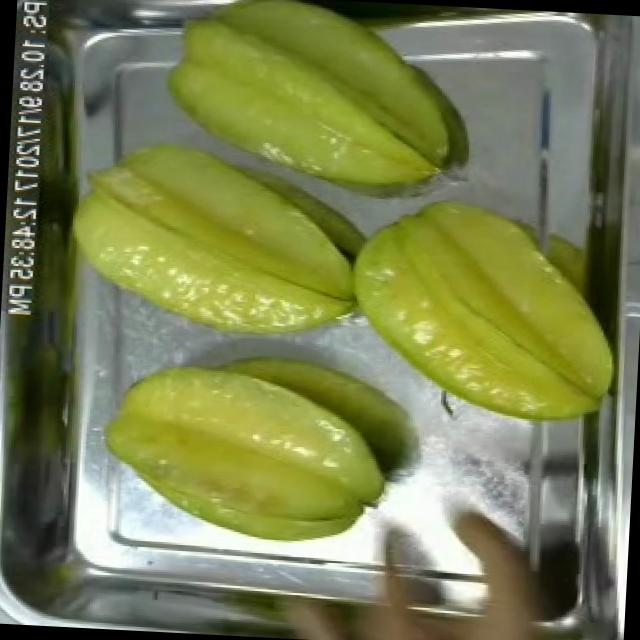fruit: (330, 181, 634, 438), (53, 120, 379, 352), (145, 0, 483, 210), (90, 341, 408, 558)
